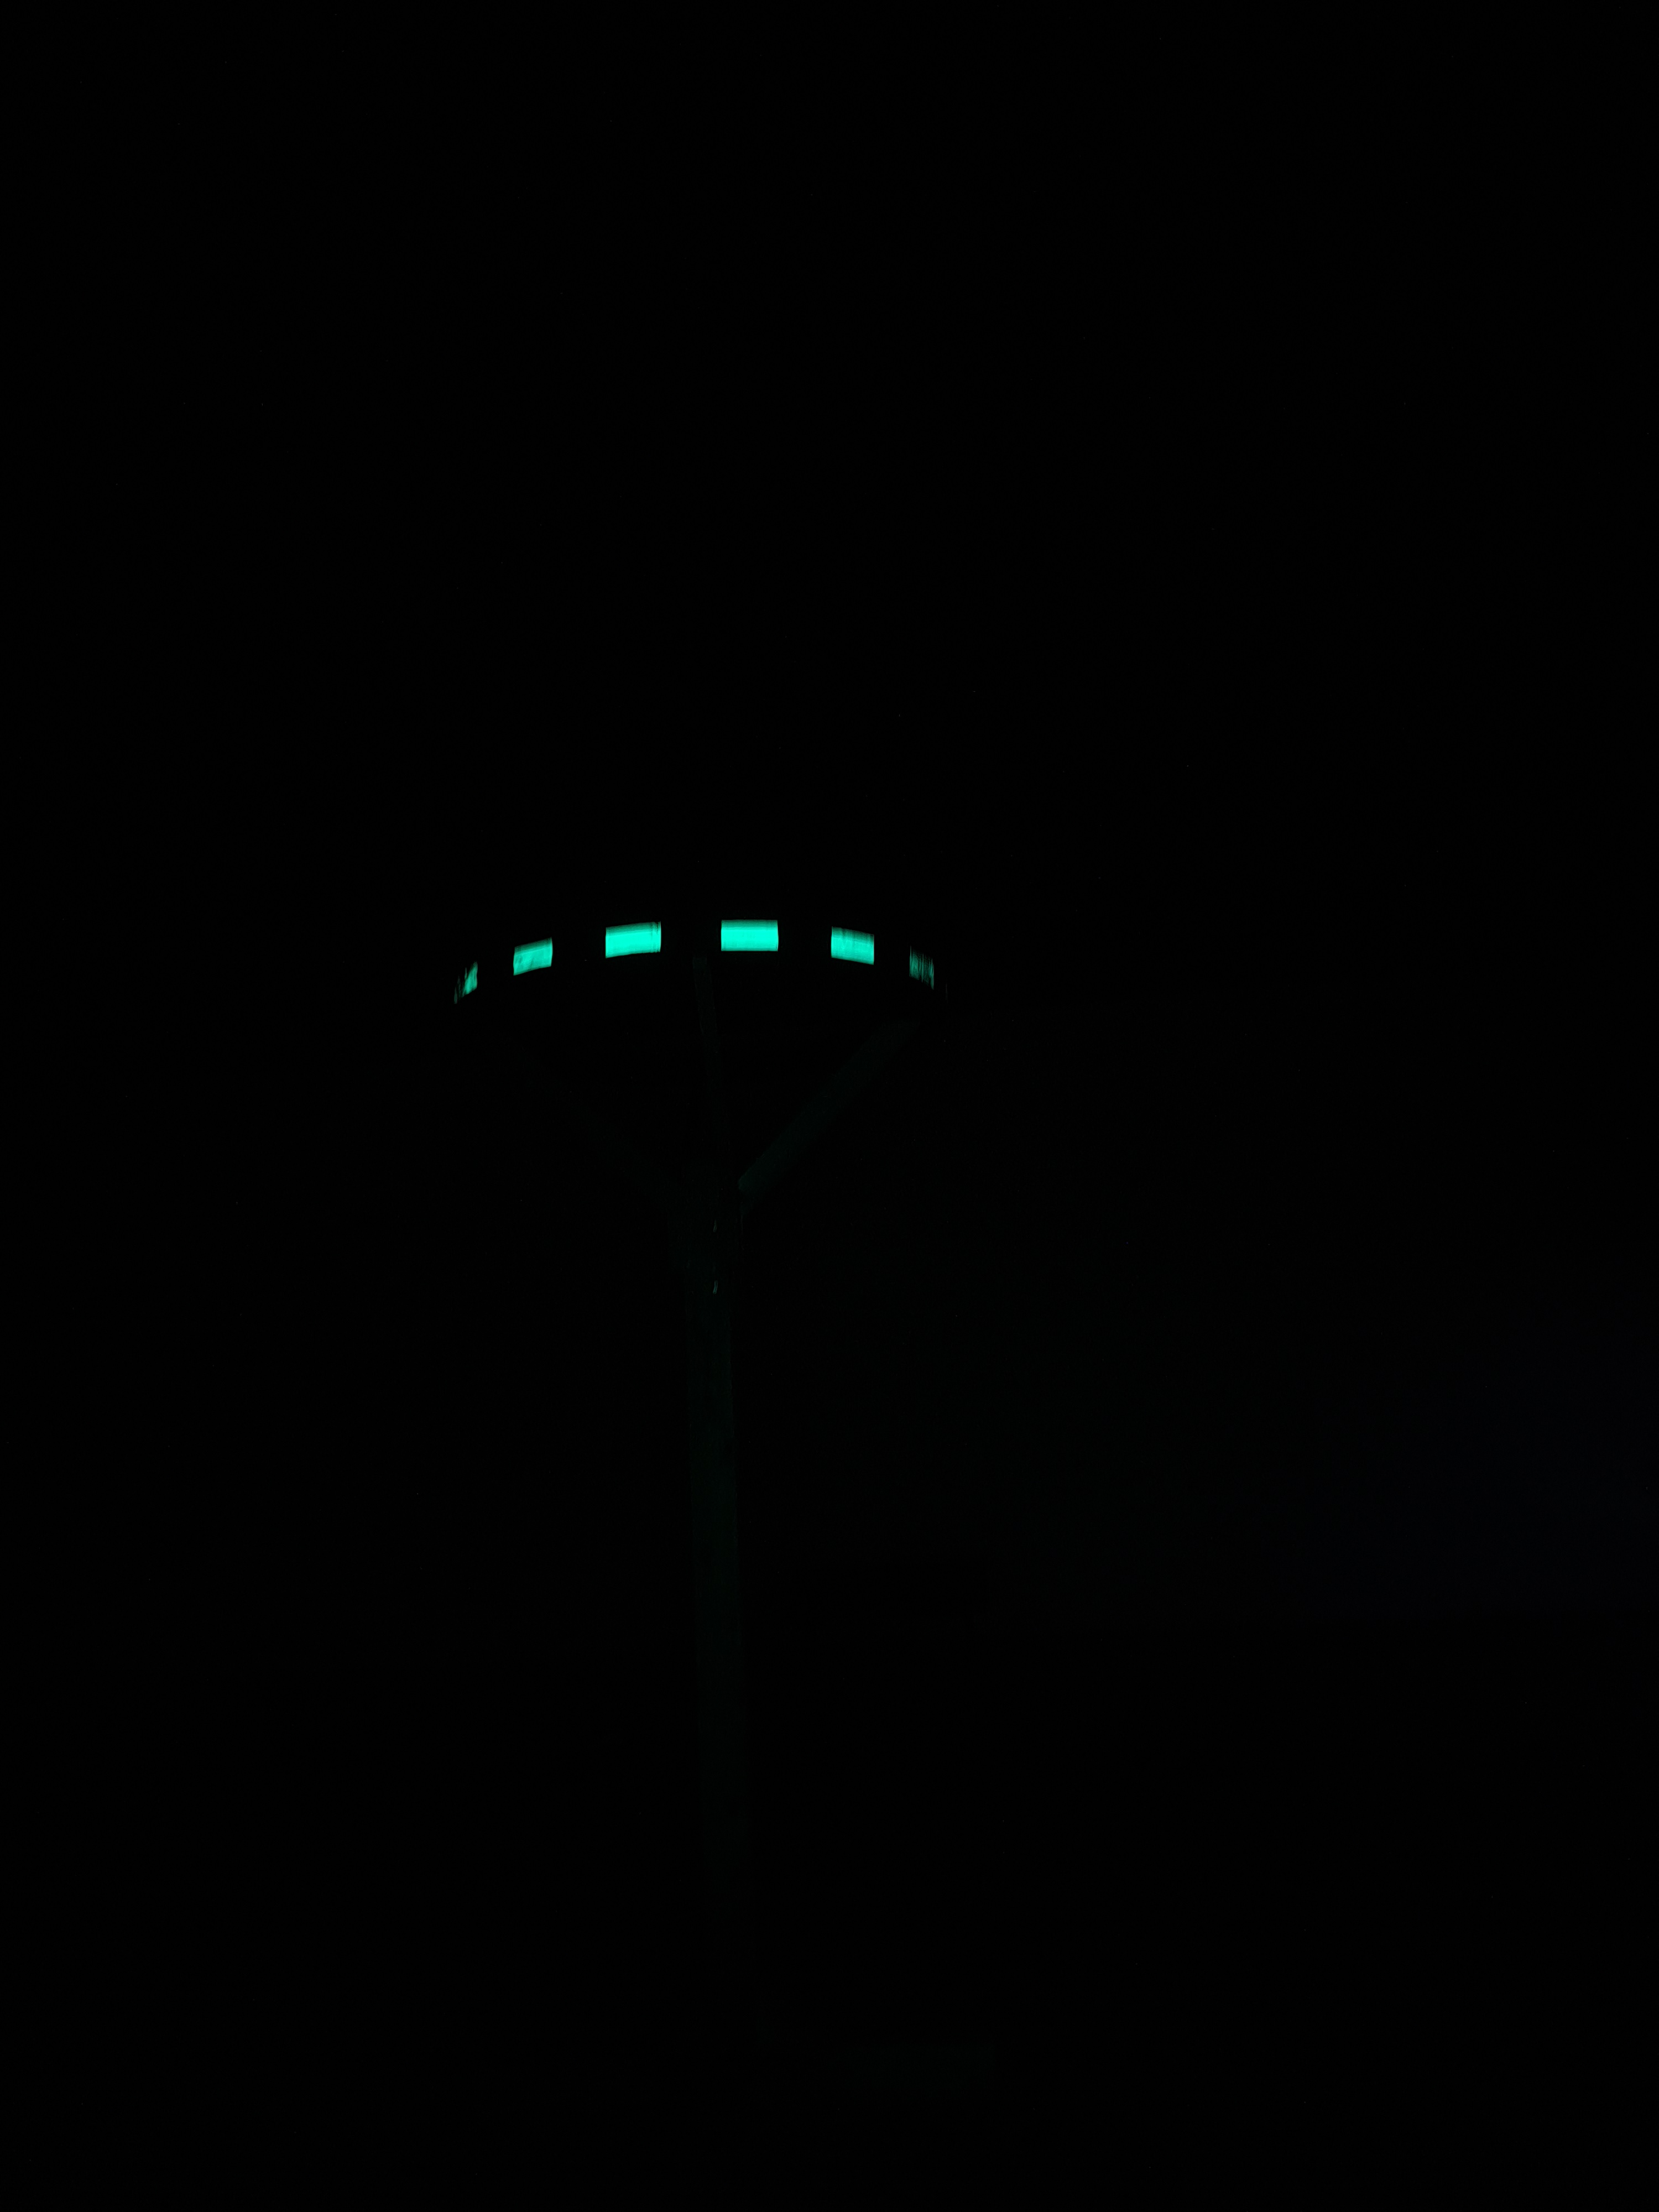hoop: (448, 911, 943, 1001)
